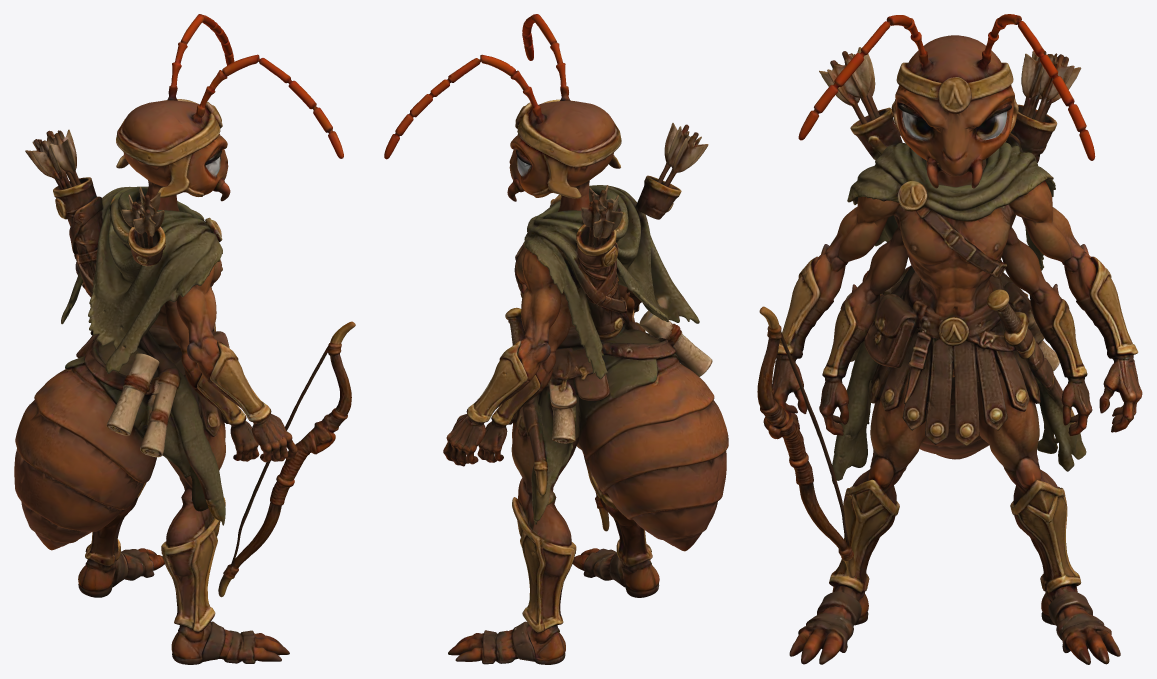
The model's file is archer.glb.
3 renders of one model, left to right at view 1: azimuth 30°, elevation 25°; view 2: azimuth 150°, elevation 25°; view 3: azimuth 270°, elevation 25°, orthographic. The views are drawn at different scales.
Parts seen in each view (by area): view 1: node_e14c922a-110c-4567-8e3e-115f5235d4eb; view 2: node_e14c922a-110c-4567-8e3e-115f5235d4eb; view 3: node_e14c922a-110c-4567-8e3e-115f5235d4eb.
Part boxes in pixels (left/top/right/bottom): node_e14c922a-110c-4567-8e3e-115f5235d4eb: left=14, top=14, right=355, bottom=664; node_e14c922a-110c-4567-8e3e-115f5235d4eb: left=384, top=14, right=728, bottom=664; node_e14c922a-110c-4567-8e3e-115f5235d4eb: left=757, top=14, right=1142, bottom=664.
Bounding box in the file's own units: 0.4999 × 1 × 0.5351.
1 material, 1 textured.
